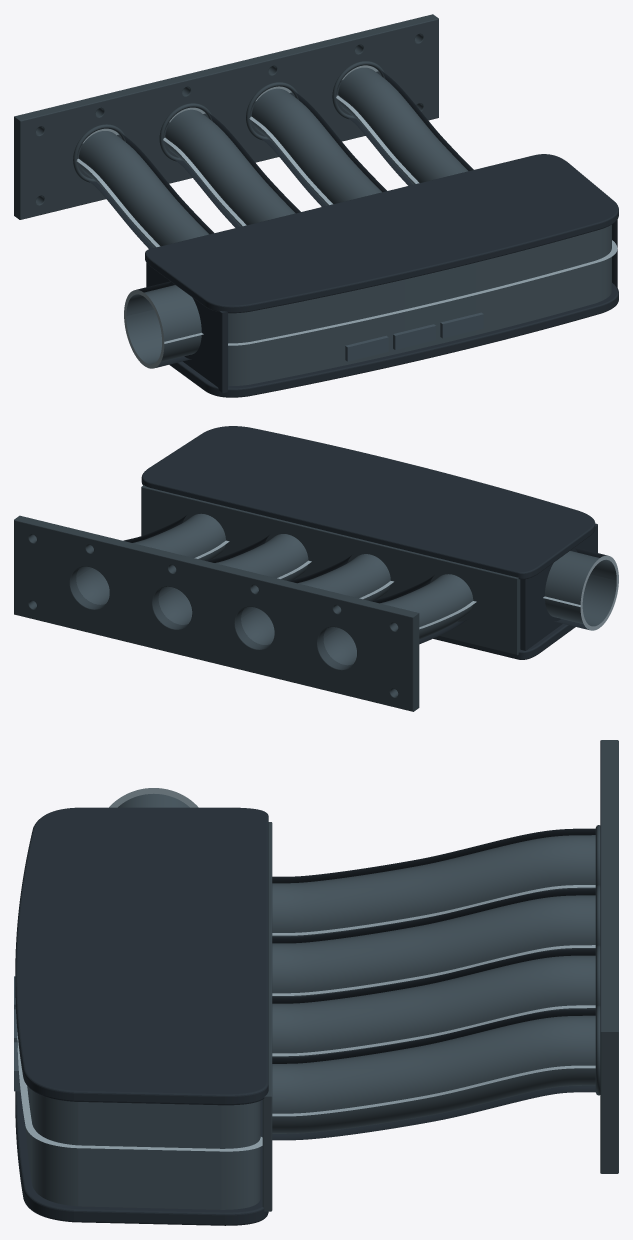
Rendered from coletor-k24.glb.
3 renders of one model, top to bottom at view 1: azimuth 30°, elevation 25°; view 2: azimuth 150°, elevation 25°; view 3: azimuth 270°, elevation 25°, orthographic. The views are drawn at different scales.
Parts seen in each view (by area): view 1: Tampa_do_plenum, Flange_de_fixacao_com_furos, Plenum_parede_interna_inferior, Plenum_parede_interna_superior, Duto_3_superior_interior, Duto_4_superior_interior, Duto_2_superior_interior, Duto_1_superior_interior, Plenum_fundo, Entrada_parede_inteira, Entrada_lateral_superior_interior, Entrada_lateral_inferior_interior (+12 smaller); view 2: Flange_de_fixacao_com_furos, Tampa_do_plenum, Parede_traseira_inteira, Duto_1_superior_interior, Entrada_parede_inteira, Duto_4_superior_interior, Duto_3_superior_interior, Duto_2_superior_interior, Entrada_lateral_superior_interior, Entrada_lateral_inferior_interior, Duto_1_inferior_interior, Duto_3_inferior_interior (+3 smaller); view 3: Tampa_do_plenum, Duto_3_superior_interior, Duto_2_superior_interior, Duto_4_superior_interior, Duto_1_superior_interior, Plenum_parede_interna_inferior, Plenum_parede_interna_superior, Flange_de_fixacao_com_furos, Duto_4_inferior_interior, Plenum_fundo, Parede_traseira_inteira, Duto_1_superior_exterior (+10 smaller).
Boxes of the visible parts, <box> form: Tampa_do_plenum: <box>145,154,618,313</box>; Flange_de_fixacao_com_furos: <box>14,14,438,219</box>; Plenum_parede_interna_inferior: <box>228,257,611,385</box>; Plenum_parede_interna_superior: <box>228,224,611,343</box>; Duto_3_superior_interior: <box>251,88,381,203</box>; Duto_4_superior_interior: <box>338,67,468,182</box>; Duto_2_superior_interior: <box>165,109,295,225</box>; Duto_1_superior_interior: <box>79,131,209,246</box>; Plenum_fundo: <box>169,283,618,397</box>; Entrada_parede_inteira: <box>146,263,227,393</box>; Entrada_lateral_superior_interior: <box>126,285,201,341</box>; Entrada_lateral_inferior_interior: <box>126,309,201,364</box>; Flange_de_fixacao_com_furos: <box>14,515,419,711</box>; Tampa_do_plenum: <box>141,426,595,579</box>; Parede_traseira_inteira: <box>141,485,520,655</box>; Duto_1_superior_interior: <box>323,574,473,637</box>; Entrada_parede_inteira: <box>520,523,597,650</box>; Duto_4_superior_interior: <box>76,513,225,577</box>; Duto_3_superior_interior: <box>158,534,308,597</box>; Duto_2_superior_interior: <box>241,554,390,618</box>; Entrada_lateral_superior_interior: <box>545,551,616,604</box>; Entrada_lateral_inferior_interior: <box>545,574,616,626</box>; Duto_1_inferior_interior: <box>323,605,472,665</box>; Duto_3_inferior_interior: <box>158,565,307,624</box>; Tampa_do_plenum: <box>15,807,268,1105</box>; Duto_3_superior_interior: <box>272,955,595,1053</box>; Duto_2_superior_interior: <box>272,895,595,993</box>; Duto_4_superior_interior: <box>272,1015,595,1113</box>; Duto_1_superior_interior: <box>272,835,595,932</box>; Plenum_parede_interna_inferior: <box>25,1127,260,1209</box>; Plenum_parede_interna_superior: <box>27,1086,260,1148</box>; Flange_de_fixacao_com_furos: <box>600,740,618,1173</box>; Duto_4_inferior_interior: <box>272,1068,595,1133</box>; Plenum_fundo: <box>15,1091,268,1225</box>; Parede_traseira_inteira: <box>262,822,272,1211</box>; Duto_1_superior_exterior: <box>272,828,595,883</box>.
Size of the model in its own units: 6.27 by 1.83 by 5.1.
